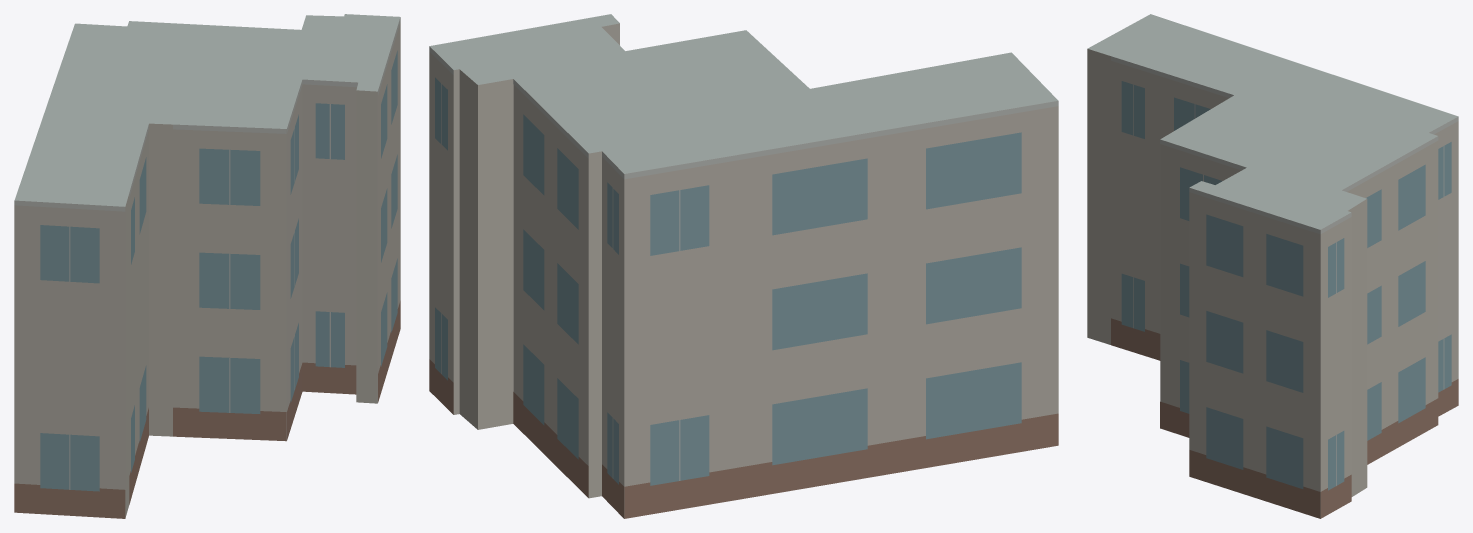
The model's file is survey-upis-32501330.glb.
3 renders of one model, left to right at view 1: azimuth 30°, elevation 25°; view 2: azimuth 150°, elevation 25°; view 3: azimuth 270°, elevation 25°, orthographic. The views are drawn at different scales.
Visible parts, largest first — view 1: survey-upis-32501330.tmp; view 2: survey-upis-32501330.tmp; view 3: survey-upis-32501330.tmp.
Boxes of the visible parts, bbox=[...] form: survey-upis-32501330.tmp: bbox=[14, 14, 400, 518]; survey-upis-32501330.tmp: bbox=[429, 14, 1058, 518]; survey-upis-32501330.tmp: bbox=[1087, 14, 1458, 518].
Bounding box in the file's own units: 25.24 × 15.75 × 18.35.
